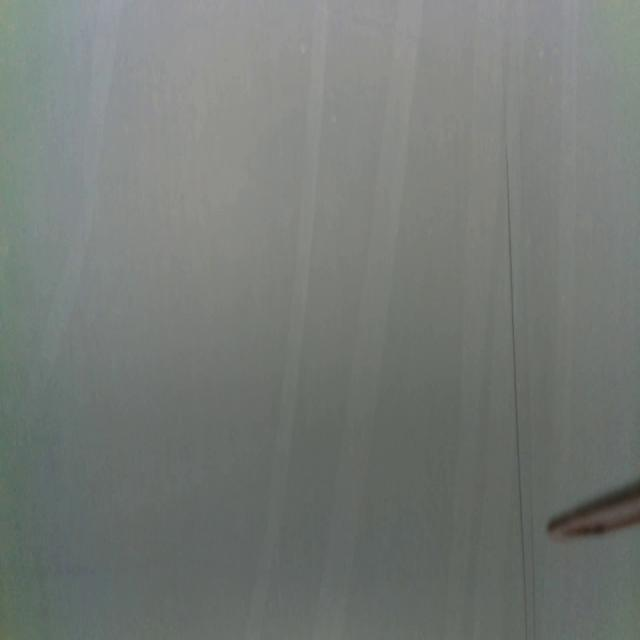crease: (322, 0, 424, 638), (245, 0, 328, 640), (442, 0, 507, 640), (40, 0, 125, 370), (550, 0, 580, 505), (505, 139, 528, 640), (528, 472, 538, 640)
